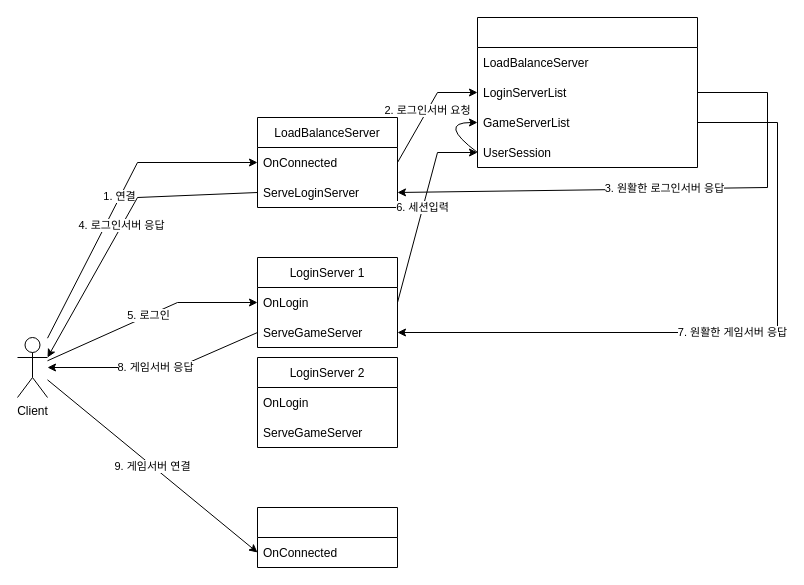
The diagram is 804 pixels wide and 585 high, and some of its shapes have lost their labels. Here are the shapes that lost their labels. From the top down, the box of each, then its label:
(476, 16, 698, 168): MasterServer
(256, 506, 398, 568): GameServer 1
